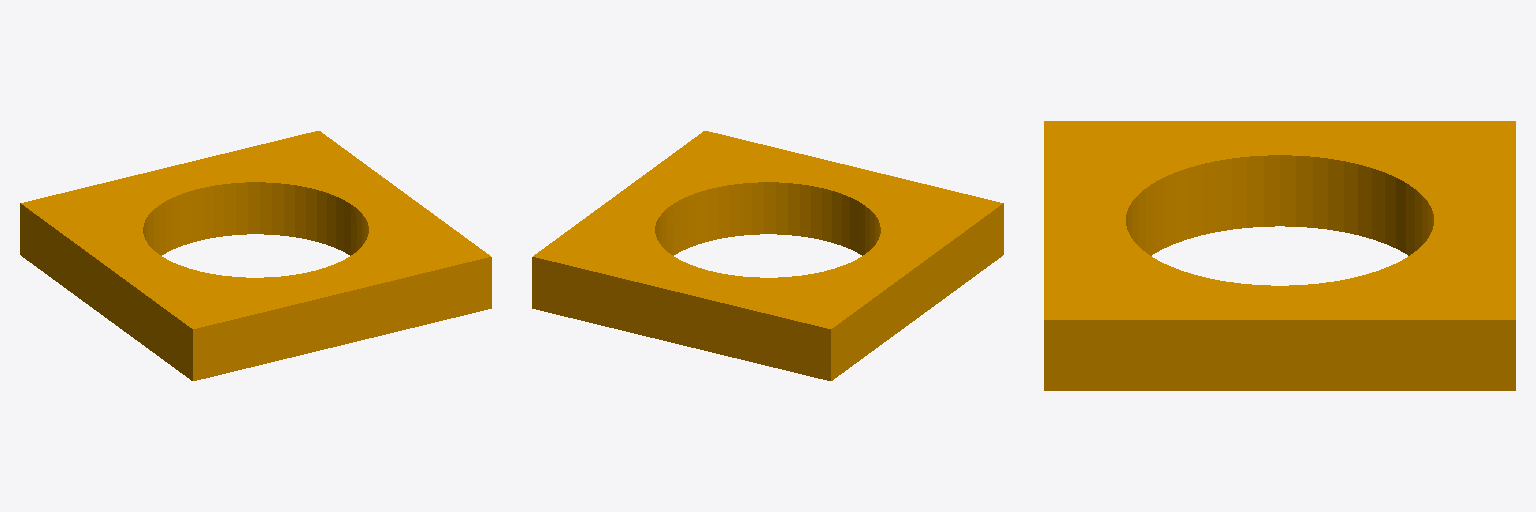
The robot description file, URDF, robot "green_round_hole_1_5in":
<?xml version="1.0"?>
<robot name="green_round_hole_1_5in">
    <link name="green_round_hole_1_5in">
        <visual>
            <!--origin xyz="0 0 0.01905" rpy="0 1.57079632679 0"-->
            <geometry>
                <mesh filename="../mesh/factory_insertion/green_round_hole_1_5in.obj"/>
            </geometry>
        </visual>
        <collision>
            <!--origin xyz="0 0 0.01905" rpy="0 1.57079632679 0"-->
            <geometry>
                <mesh filename="../mesh/factory_insertion/green_round_hole_1_5in.obj"/>
            </geometry>
            <sdf resolution="256" />
        </collision>
    </link>
</robot>

--- Render facts (derived) ---
The picture shows the robot from 3 angles, left to right: view 1: azimuth 30°, elevation 25°; view 2: azimuth 150°, elevation 25°; view 3: azimuth 270°, elevation 25°; orthographic projection.
Model green_round_hole_1_5in with 1 links and 0 joints (none), rooted at green_round_hole_1_5in, posed every joint at zero.
Visible links, largest first — view 1: green_round_hole_1_5in; view 2: green_round_hole_1_5in; view 3: green_round_hole_1_5in.
Boxes of the visible links, x1,y1,x2,y2 form: green_round_hole_1_5in: (20,131,491,380); green_round_hole_1_5in: (532,131,1003,380); green_round_hole_1_5in: (1044,121,1515,390).
Bounding box of the posed robot: 0.06 × 0.06 × 0.01 m (x, y, z).
Meshes: 1 distinct files referenced, 1 mesh visuals loaded (1 OBJ).
